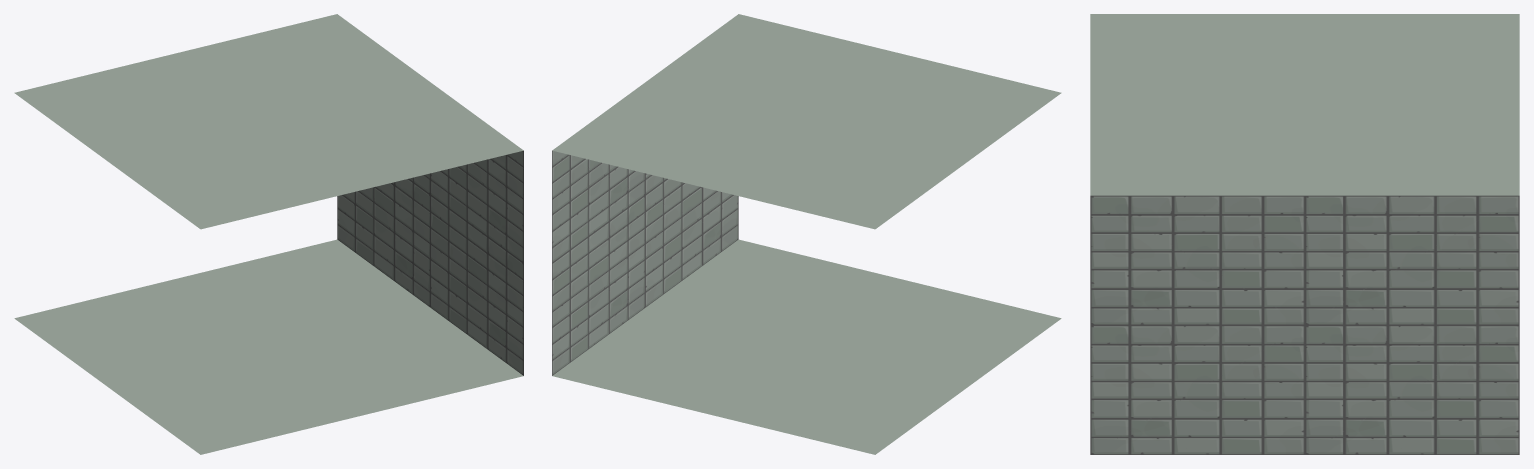
The model's file is Bock_A1(2).fbx.
3 views of the same model, side by side, from view 1: azimuth 30°, elevation 25°; view 2: azimuth 150°, elevation 25°; view 3: azimuth 270°, elevation 25° (orthographic). The views are drawn at different scales.
Parts seen in each view (by area): view 1: Bock_A1; view 2: Bock_A1; view 3: Bock_A1.
Part boxes in pixels (<box>): Bock_A1: <box>14,14,523,454</box>; Bock_A1: <box>552,14,1061,454</box>; Bock_A1: <box>1090,14,1519,454</box>.
Size of the model in its own units: 600 by 400 by 600.
